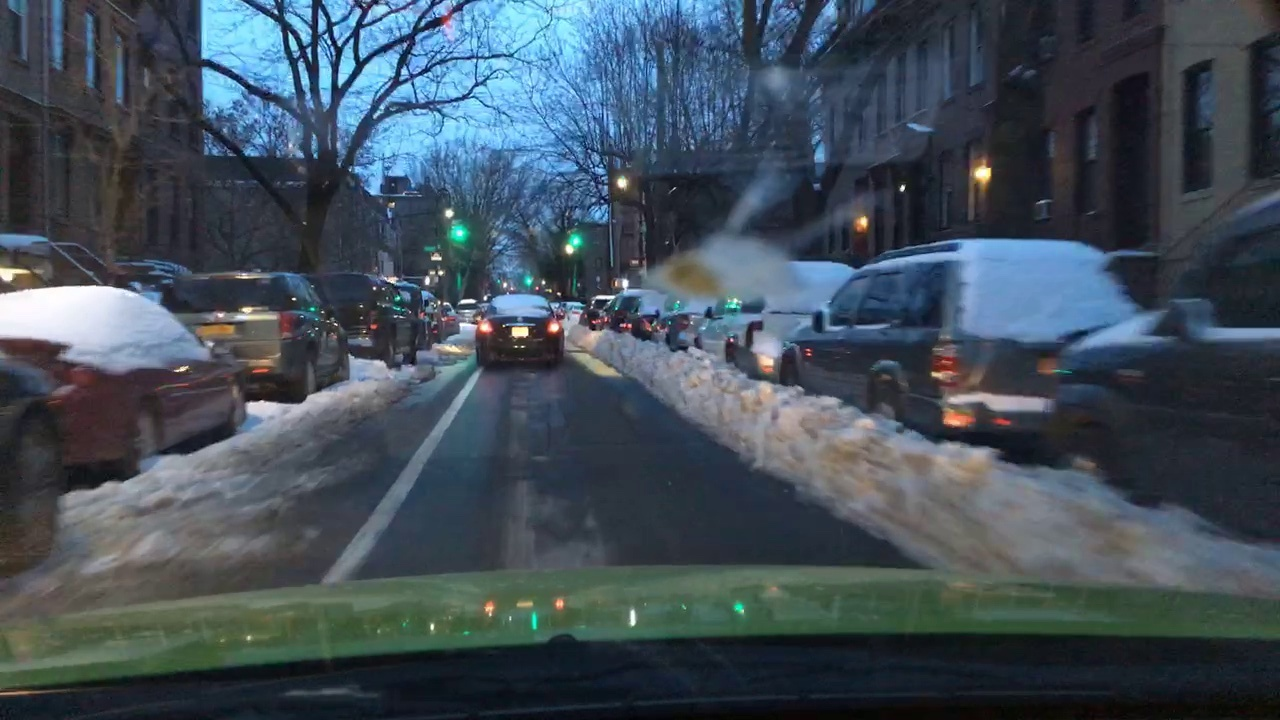car: (779, 245, 1123, 458), (1, 284, 248, 476), (165, 272, 352, 401), (690, 261, 853, 395), (314, 269, 420, 368), (475, 292, 567, 368)
traffic light: (449, 220, 472, 258)
